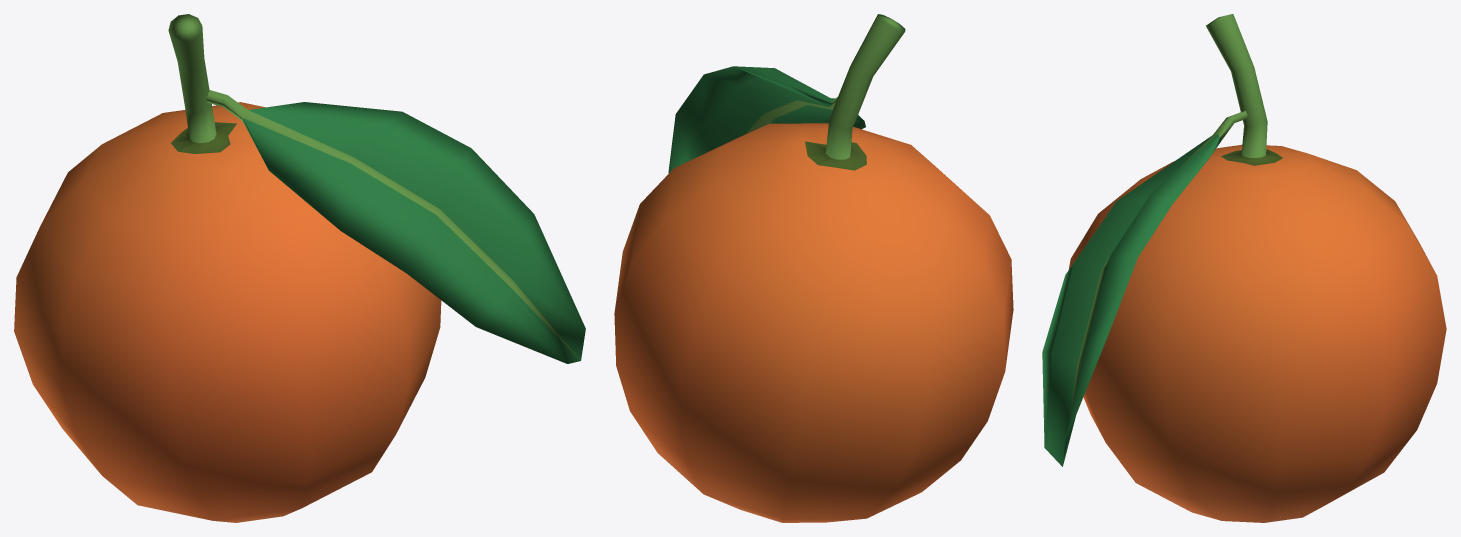
The model's file is food_orange.glb.
3 views of the same model, side by side, from view 1: azimuth 30°, elevation 25°; view 2: azimuth 150°, elevation 25°; view 3: azimuth 270°, elevation 25° (orthographic). The views are drawn at different scales.
Parts seen in each view (by area): view 1: food_orange; view 2: food_orange; view 3: food_orange.
Part boxes in pixels (bbox=[...]): food_orange: bbox=[14, 14, 585, 522]; food_orange: bbox=[614, 14, 1013, 522]; food_orange: bbox=[1042, 14, 1446, 522].
Bounding box in the file's own units: 35.19 × 40 × 31.29.
1 material, 1 textured.
